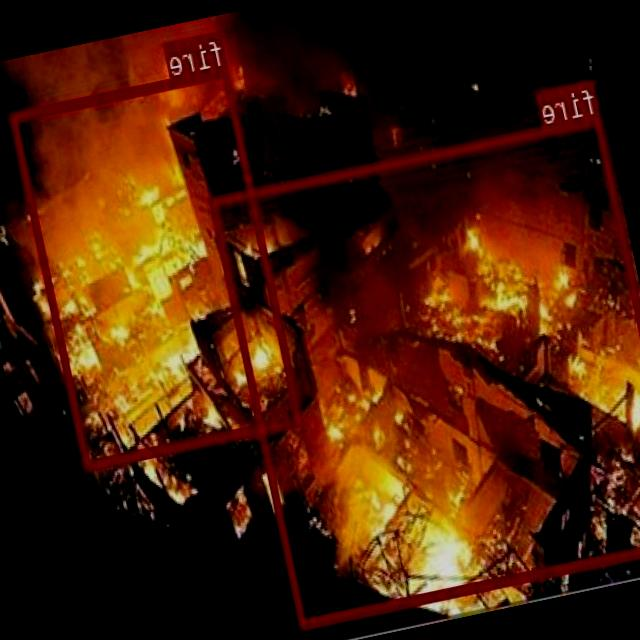fire: (210, 112, 640, 628), (9, 64, 304, 468)
